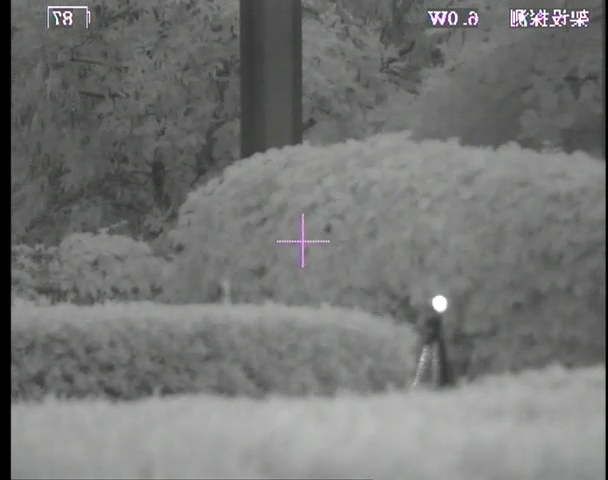my: (431, 294, 448, 313)
